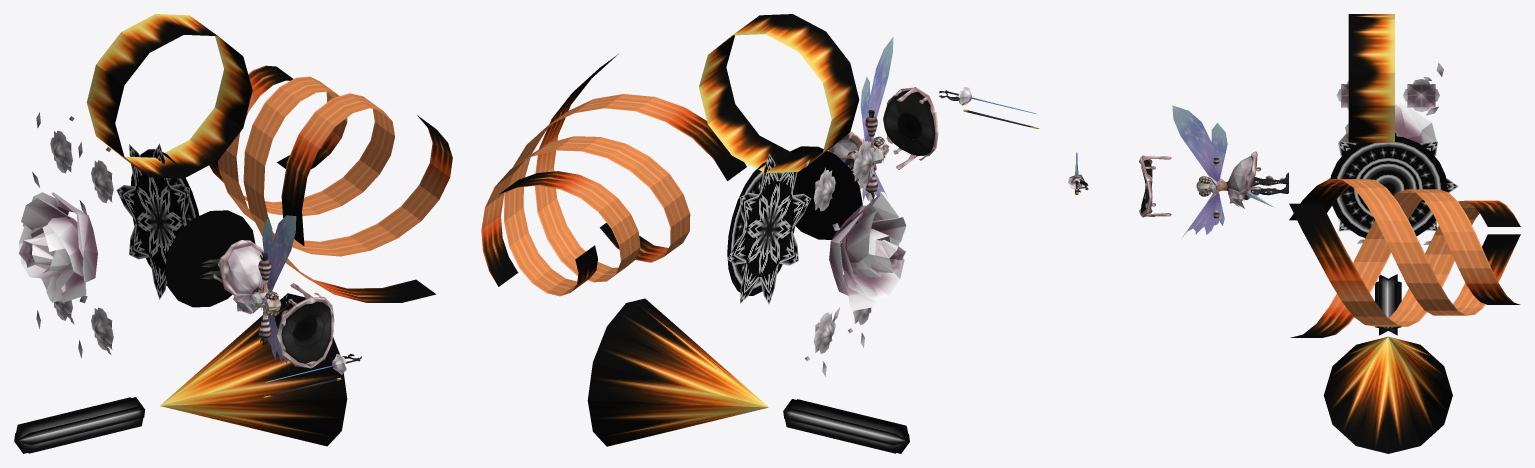
The picture shows the model from 3 angles, left to right: view 1: azimuth 30°, elevation 25°; view 2: azimuth 150°, elevation 25°; view 3: azimuth 270°, elevation 25°; orthographic projection. The views are drawn at different scales.
Parts seen in each view (by area): view 1: B_0113_1, B_0113_0; view 2: B_0113_1, B_0113_0; view 3: B_0113_1, B_0113_0.
Part boxes in pixels (x1=…): B_0113_1: x1=14, y1=14, x2=452, y2=453; B_0113_0: x1=18, y1=112, x2=361, y2=397; B_0113_1: x1=481, y1=14, x2=909, y2=453; B_0113_0: x1=790, y1=37, x2=1039, y2=376; B_0113_1: x1=1289, y1=14, x2=1520, y2=453; B_0113_0: x1=1068, y1=62, x2=1443, y2=244.
Bounding box in the file's own units: 10.21 × 11.25 × 12.3.
Materials: 2 (2 with a texture image).
